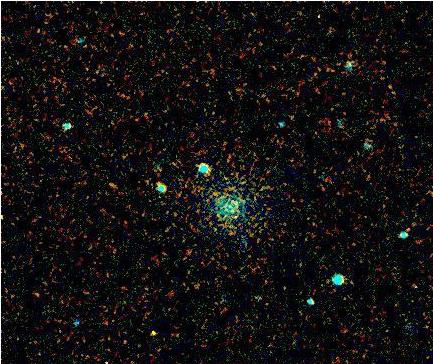star: (133, 319, 163, 349)
